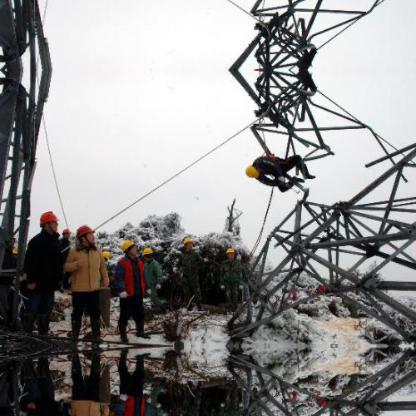Helmet: (35, 207, 62, 236), (72, 224, 98, 252), (114, 236, 140, 262), (242, 161, 262, 184), (138, 246, 158, 264), (179, 234, 195, 256), (222, 245, 236, 262)
